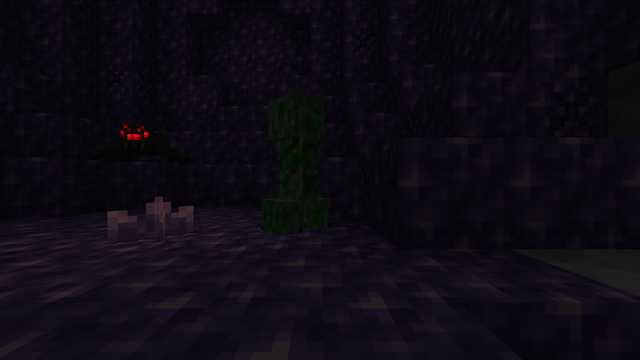araignees: (90, 121, 187, 157)
creepers: (268, 87, 319, 232)
